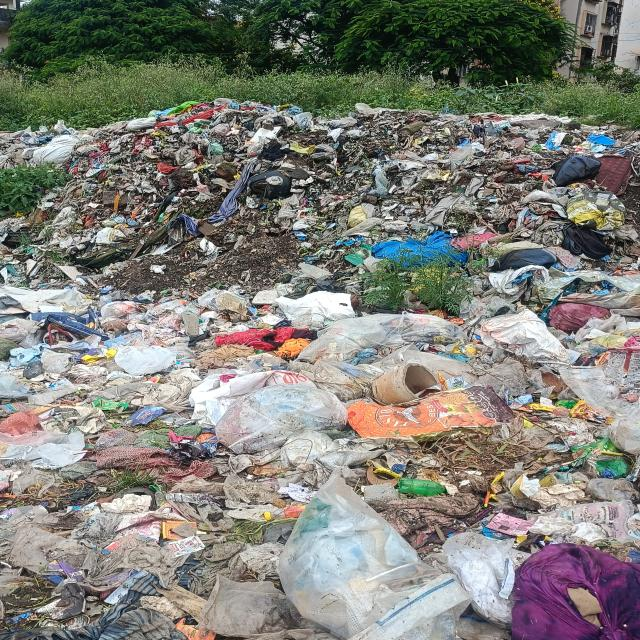garbage: (3, 278, 640, 640), (5, 101, 638, 276)
